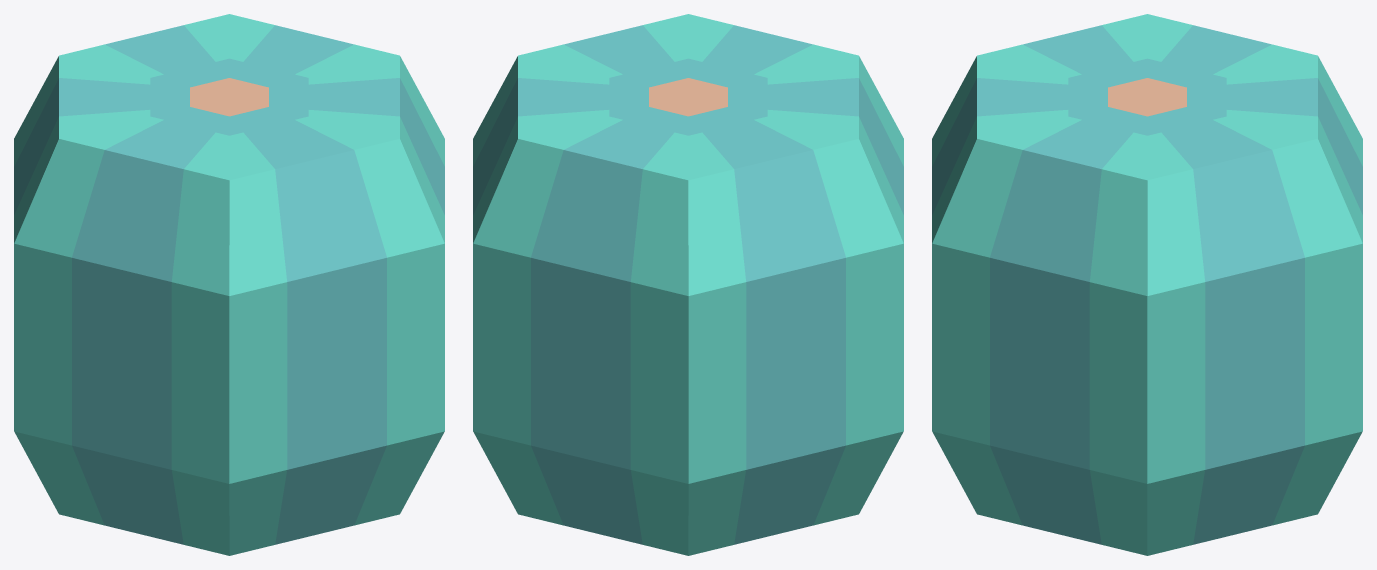
The model's file is kn_crop_melon.glb.
3 views of the same model, side by side, from view 1: azimuth 30°, elevation 25°; view 2: azimuth 150°, elevation 25°; view 3: azimuth 270°, elevation 25° (orthographic).
Visible parts, largest first — view 1: crop_melon; view 2: crop_melon; view 3: crop_melon.
Boxes of the visible parts, <box> form: crop_melon: <box>14,14,444,555</box>; crop_melon: <box>473,14,903,555</box>; crop_melon: <box>932,14,1362,555</box>.
Size of the model in its own units: 0.4072 by 0.3394 by 0.3527.
